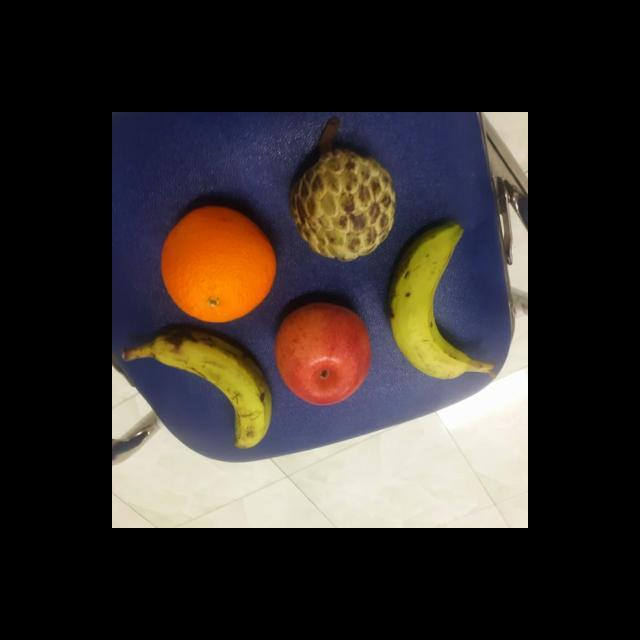Sakya fruit: (287, 151, 398, 263)
apple: (272, 302, 374, 408)
banana: (150, 324, 274, 452), (386, 222, 479, 382)
orange: (158, 205, 279, 326)
